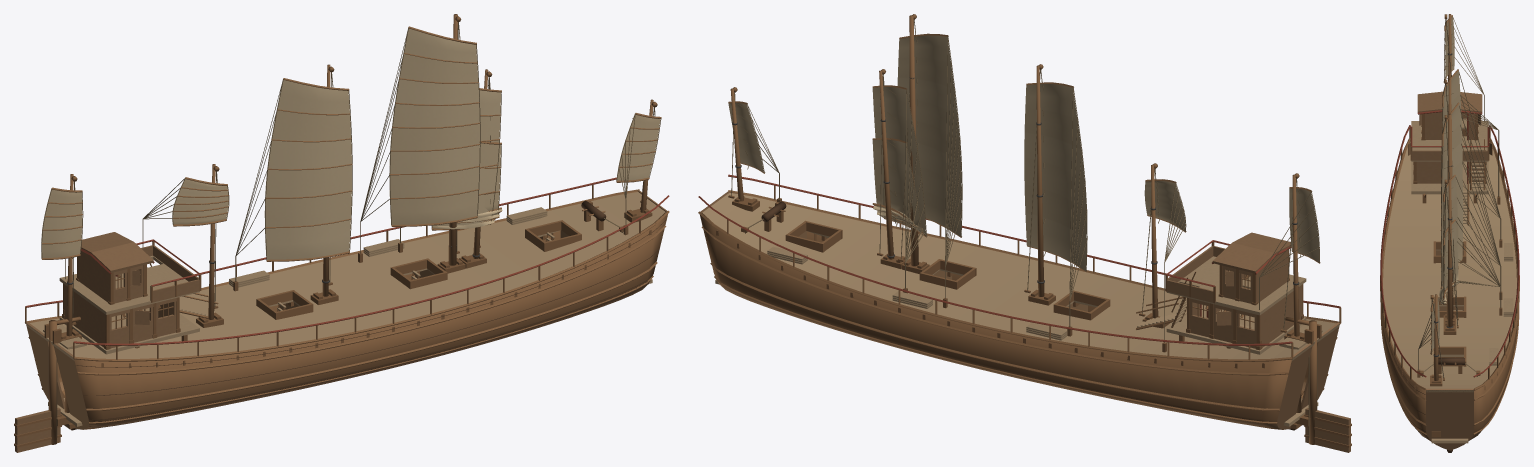
File: zuochuan-full.glb
The picture shows the model from 3 angles, left to right: view 1: azimuth 30°, elevation 25°; view 2: azimuth 150°, elevation 25°; view 3: azimuth 270°, elevation 25°; orthographic projection. The views are drawn at different scales.
Parts seen in each view (by area): view 1: Starboard planked shell_WEB, Battened sail panels.003_WEB, Battened sail panels.002_WEB, Battened sail panels_WEB, Battened sail panels.004_WEB, Battened sail panels.007_WEB, Battened sail panels.001_WEB, Cambered upper shelter roof_WEB, Main deck plank.022_WEB, Main deck plank.021_WEB, Walkable roof_WEB, Stern transom.002_WEB (+24 smaller); view 2: Port planked shell_WEB, Battened sail panels.002_WEB, Battened sail panels.003_WEB, Battened sail panels.005_WEB, Battened sail panels.004_WEB, Cambered upper shelter roof_WEB, Battened sail panels_WEB, Main deck plank.022_WEB, Main deck plank.021_WEB, Battened sail panels.001_WEB, Stern transom_WEB, Main deck plank.020_WEB (+30 smaller); view 3: Port planked shell_WEB, Starboard planked shell_WEB, Battened sail panels.003_WEB, Bow closure_WEB, Bow closure.002_WEB, Main deck plank.019_WEB, Main deck plank.020_WEB, Main deck plank.008_WEB, Main deck plank.021_WEB, Main deck plank.009_WEB, Cambered upper shelter roof_WEB, Main deck plank.010_WEB (+61 smaller).
Part boxes in pixels (x1,y1,x2,y2): Starboard planked shell_WEB: (74, 212, 667, 429); Battened sail panels.003_WEB: (389, 27, 479, 224); Battened sail panels.002_WEB: (264, 80, 351, 259); Battened sail panels_WEB: (41, 189, 82, 258); Battened sail panels.004_WEB: (432, 90, 500, 227); Battened sail panels.007_WEB: (616, 113, 660, 180); Battened sail panels.001_WEB: (172, 177, 228, 224); Cambered upper shelter roof_WEB: (80, 232, 153, 272); Main deck plank.022_WEB: (331, 255, 428, 318); Main deck plank.021_WEB: (312, 260, 410, 323); Walkable roof_WEB: (59, 272, 177, 314); Stern transom.002_WEB: (53, 343, 88, 429); Port planked shell_WEB: (699, 213, 1291, 429); Battened sail panels.002_WEB: (1024, 84, 1086, 271); Battened sail panels.003_WEB: (897, 35, 961, 236); Battened sail panels.005_WEB: (872, 139, 922, 233); Battened sail panels.004_WEB: (872, 87, 925, 234); Cambered upper shelter roof_WEB: (1212, 232, 1290, 273); Battened sail panels_WEB: (1289, 188, 1319, 262); Main deck plank.022_WEB: (938, 256, 1035, 318); Main deck plank.021_WEB: (956, 260, 1054, 323); Battened sail panels.001_WEB: (1144, 181, 1185, 231); Stern transom_WEB: (1277, 343, 1312, 429); Main deck plank.020_WEB: (975, 265, 1073, 327); Port planked shell_WEB: (1470, 140, 1517, 439); Starboard planked shell_WEB: (1382, 140, 1434, 443); Battened sail panels.003_WEB: (1441, 104, 1463, 286); Bow closure_WEB: (1450, 388, 1473, 450); Bow closure.002_WEB: (1426, 388, 1449, 450); Main deck plank.019_WEB: (1383, 267, 1516, 275); Main deck plank.020_WEB: (1383, 275, 1516, 283); Main deck plank.008_WEB: (1388, 217, 1511, 226); Main deck plank.021_WEB: (1383, 283, 1516, 290); Main deck plank.009_WEB: (1387, 226, 1512, 234); Cambered upper shelter roof_WEB: (1417, 91, 1482, 112); Main deck plank.010_WEB: (1386, 235, 1513, 243).
Bounding box in the file's own units: 39.13 × 19.31 × 8.95.
23 materials, 10 textured.
